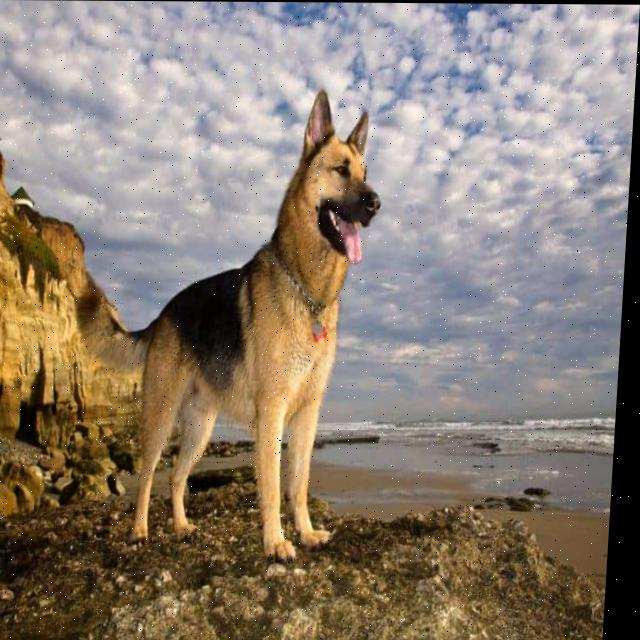GERMAN_SHEPHERD: (56, 77, 408, 591)
